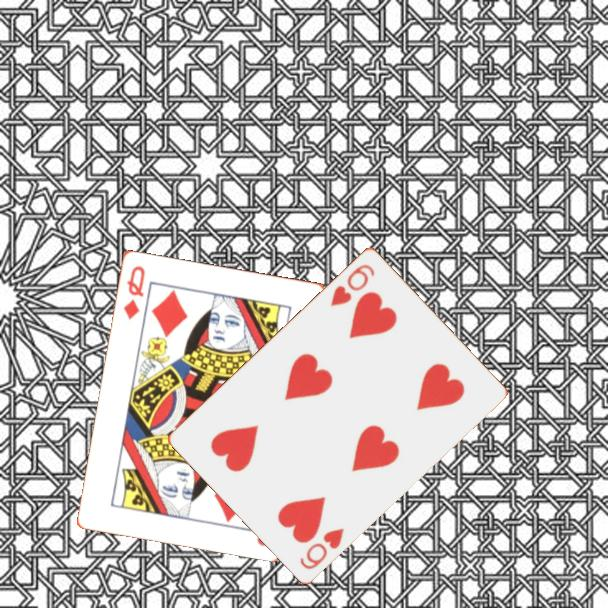d12: (120, 262, 148, 322)
h06: (327, 260, 378, 309), (296, 524, 347, 572)
